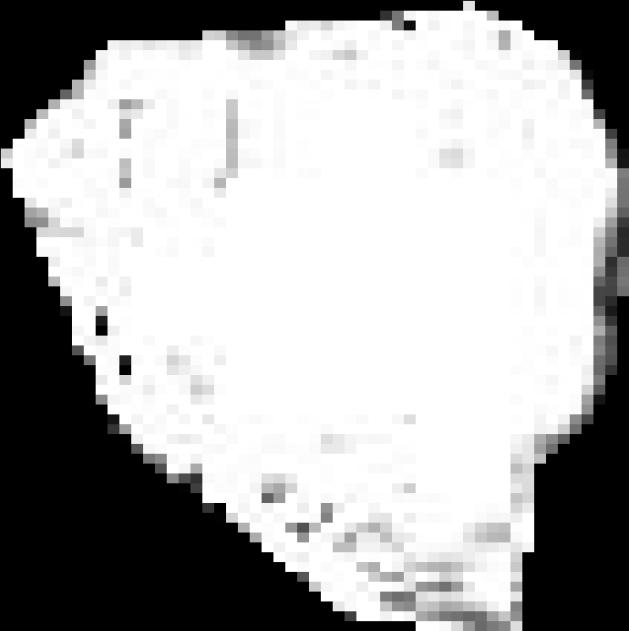tumor_good_chance: (1, 1, 629, 631)
